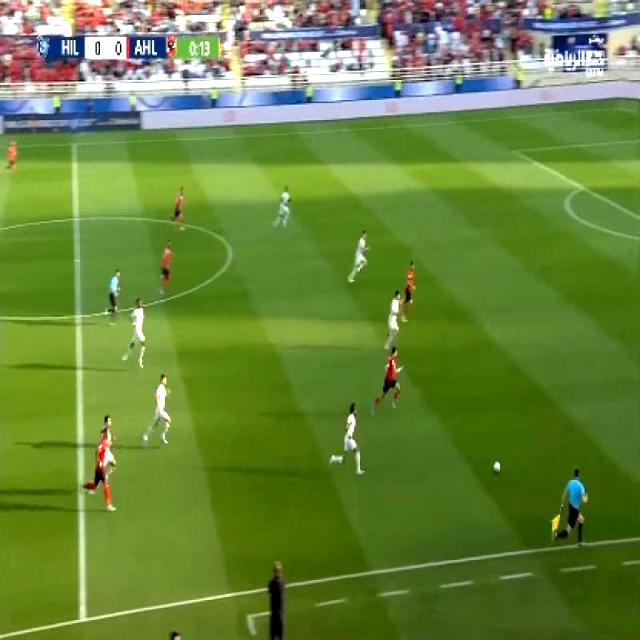bigarea_top_inner: (506, 140, 524, 160)
corner: (612, 100, 634, 115)
halfcircle_bottom: (66, 300, 89, 334)
halfcircle_top: (64, 205, 88, 232)
midline_bottom_intersection: (70, 598, 96, 632)
midline_top_intersection: (66, 132, 84, 154)
top_arc_area_intersection: (570, 176, 592, 198)
